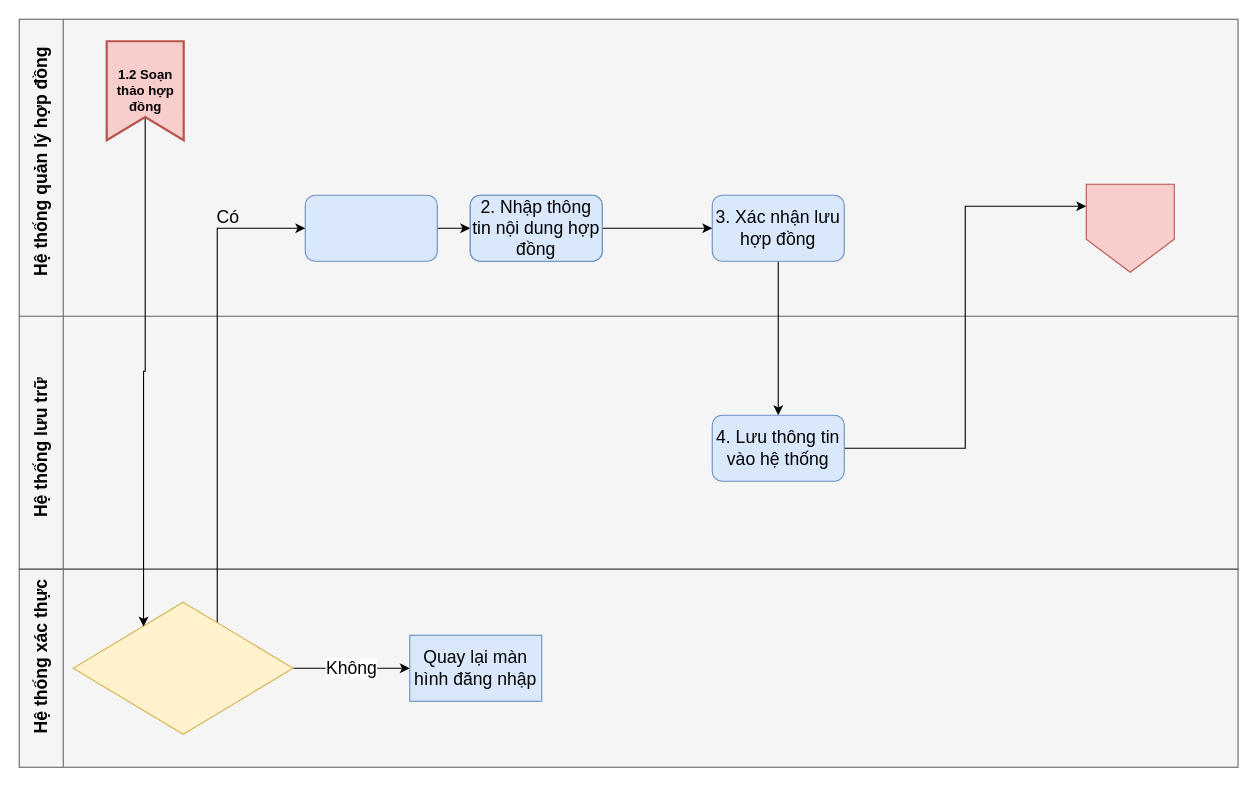
This 1257x787 diagram has some shape labels left out. The shapes that lost their labels are listed below. From the top down, each one's centre as x and y in pixels, then its label:
At (x=370, y=227): "1. Chọn mẫu hợp đồng".
At (x=1129, y=227): "1.3 Xét duyệt hợp đồng".
At (x=182, y=667): "Kiểm tra có quyền truy cập hay không?".
